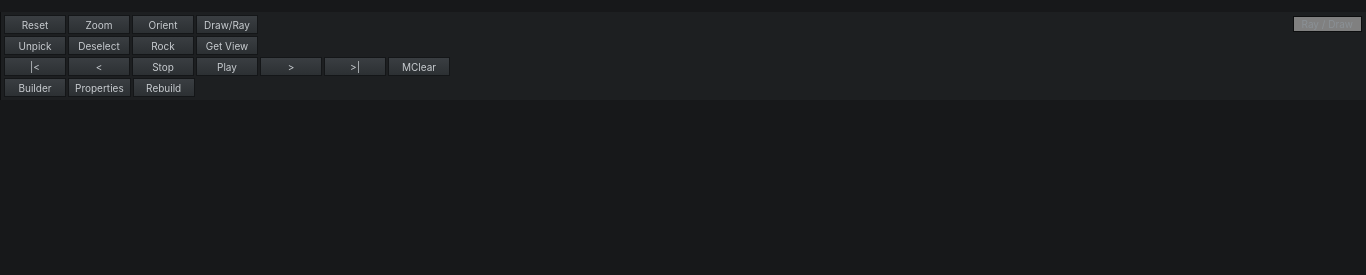
Test: the render_dialog seam (rows 58 and 73) › opens the two-page form in ONE click, as the WidgetMenu does
Click the button "Draw/Ray".
click(227, 24)  # box [196,15,258,34]
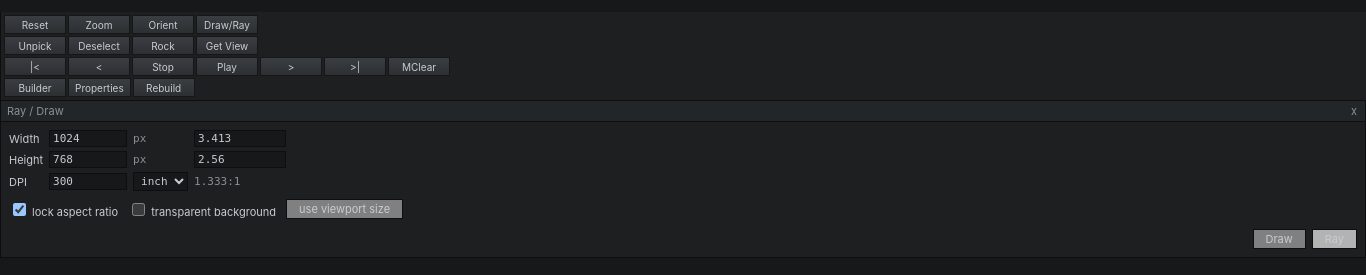
Expected: the element with class "render__title" shows "Ray / Draw", [7,104,64,118]
Expected: the number field with id "rd-w" is shown, [49,130,127,147]
Expected: the number field with id "rd-h" is shown, [49,151,127,168]
